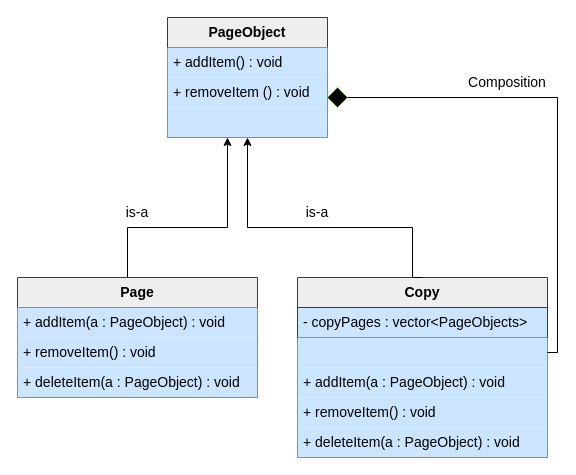
Some shapes in this 576 by 475 pixel diagram are drawn without their labels. The shapes that lost their labels are listed below. From the top down, each one's centre as x and y in pixels, then its label:
(x=247, y=122): + deleteItem() : void
(x=422, y=352): + AddElement(a : PageObject) : void
